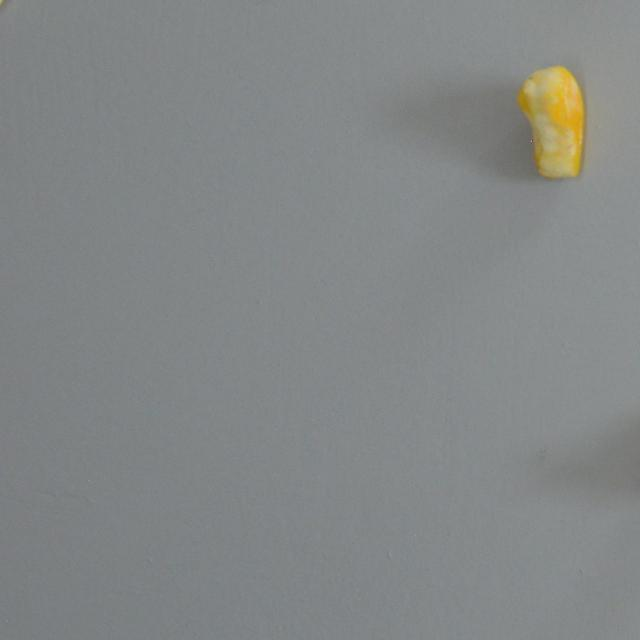punto_negro: (509, 60, 594, 184)
